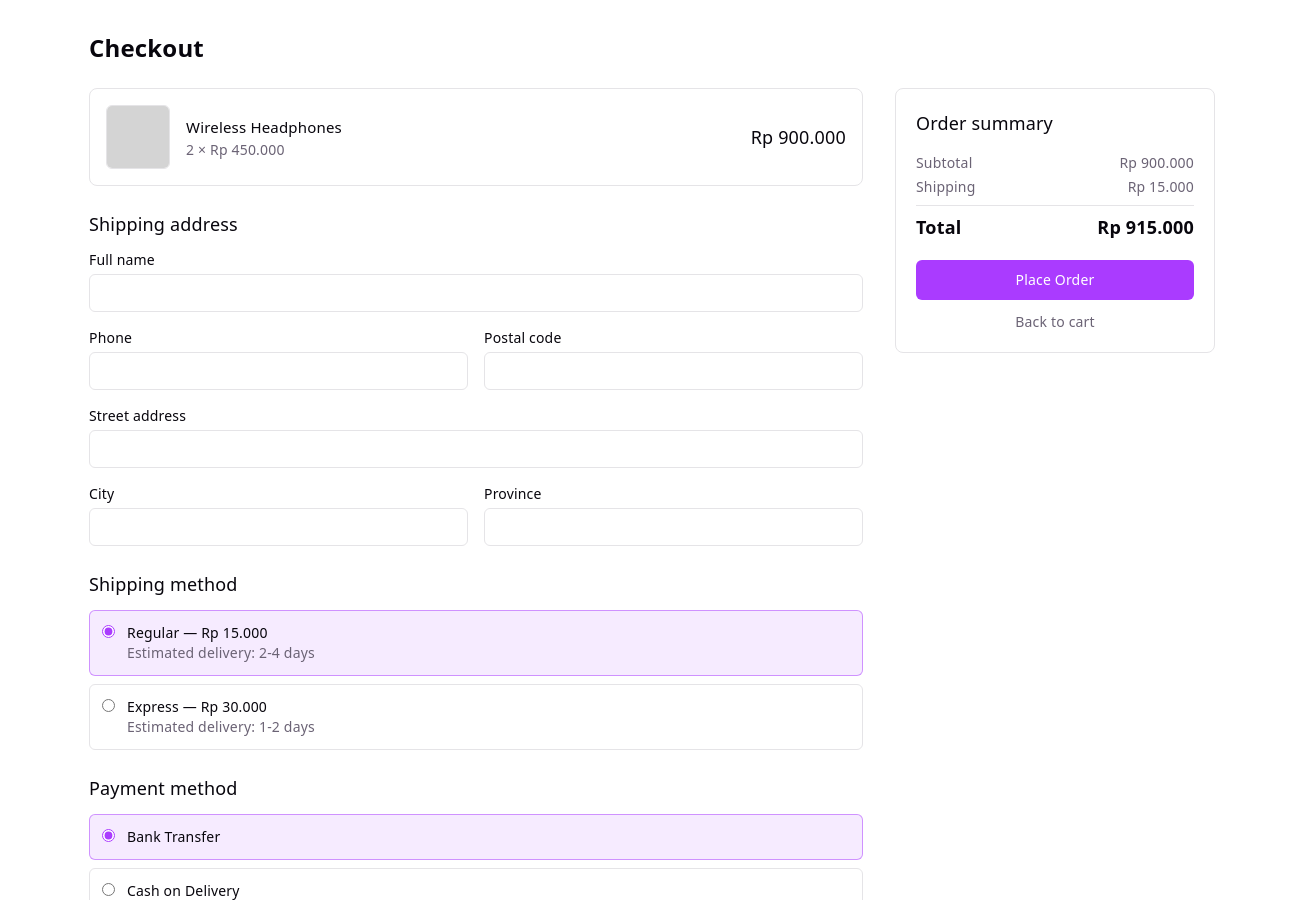
Scenario: CheckoutPage › submits the address, selected shipping id, and payment method, then navigates to the new order
Expected: the text "Wireless Headphones" is shown, [186,117,342,137]
In the field labelled "Full name": (476, 293) [89,274,863,312], type "Demo Buyer"
In the field labelled "Phone": (278, 371) [89,352,468,390], type "08123456789"
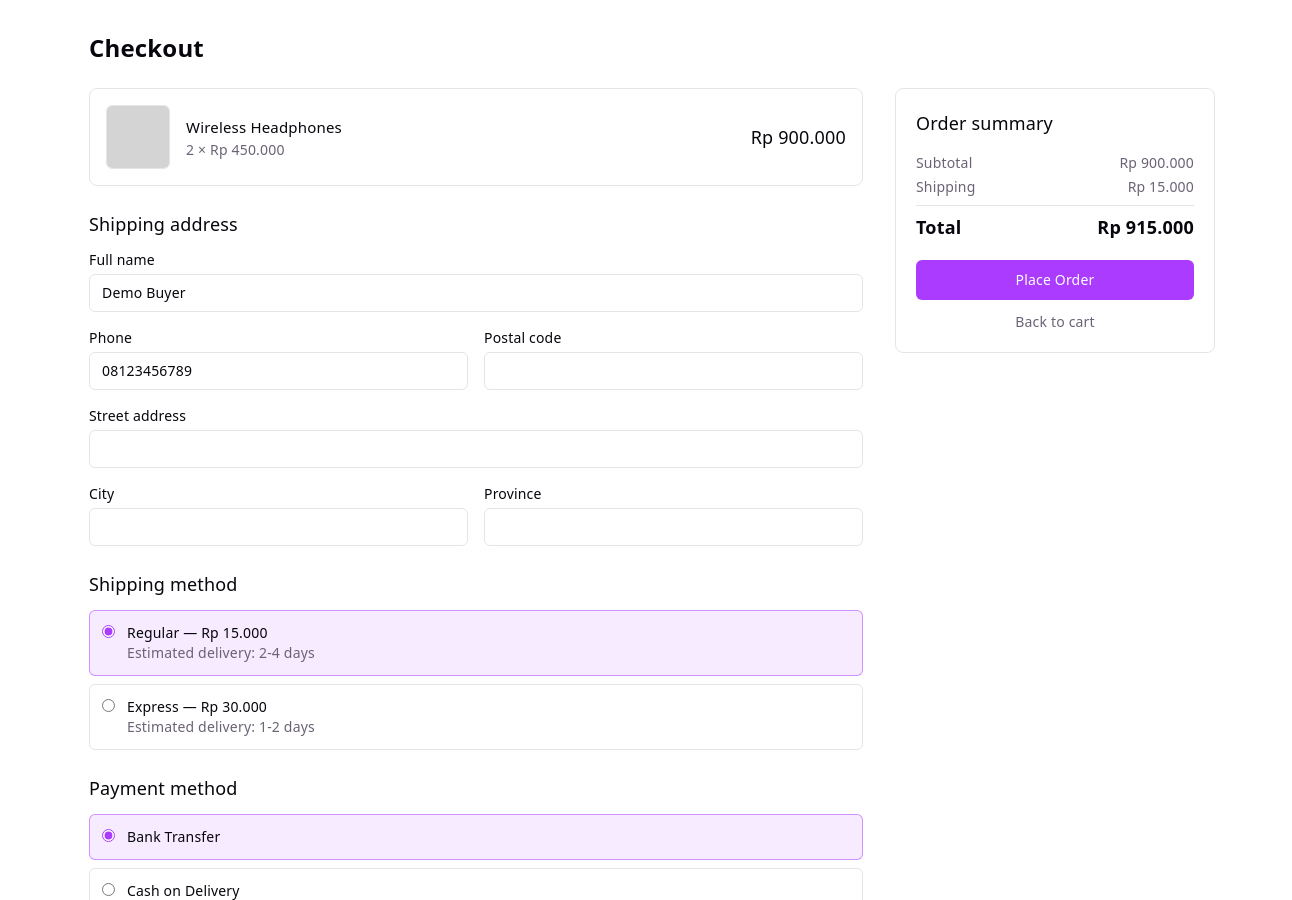
In the field labelled "Street address": (476, 449) [89,430,863,468], type "Jl. Sudirman No. 1"
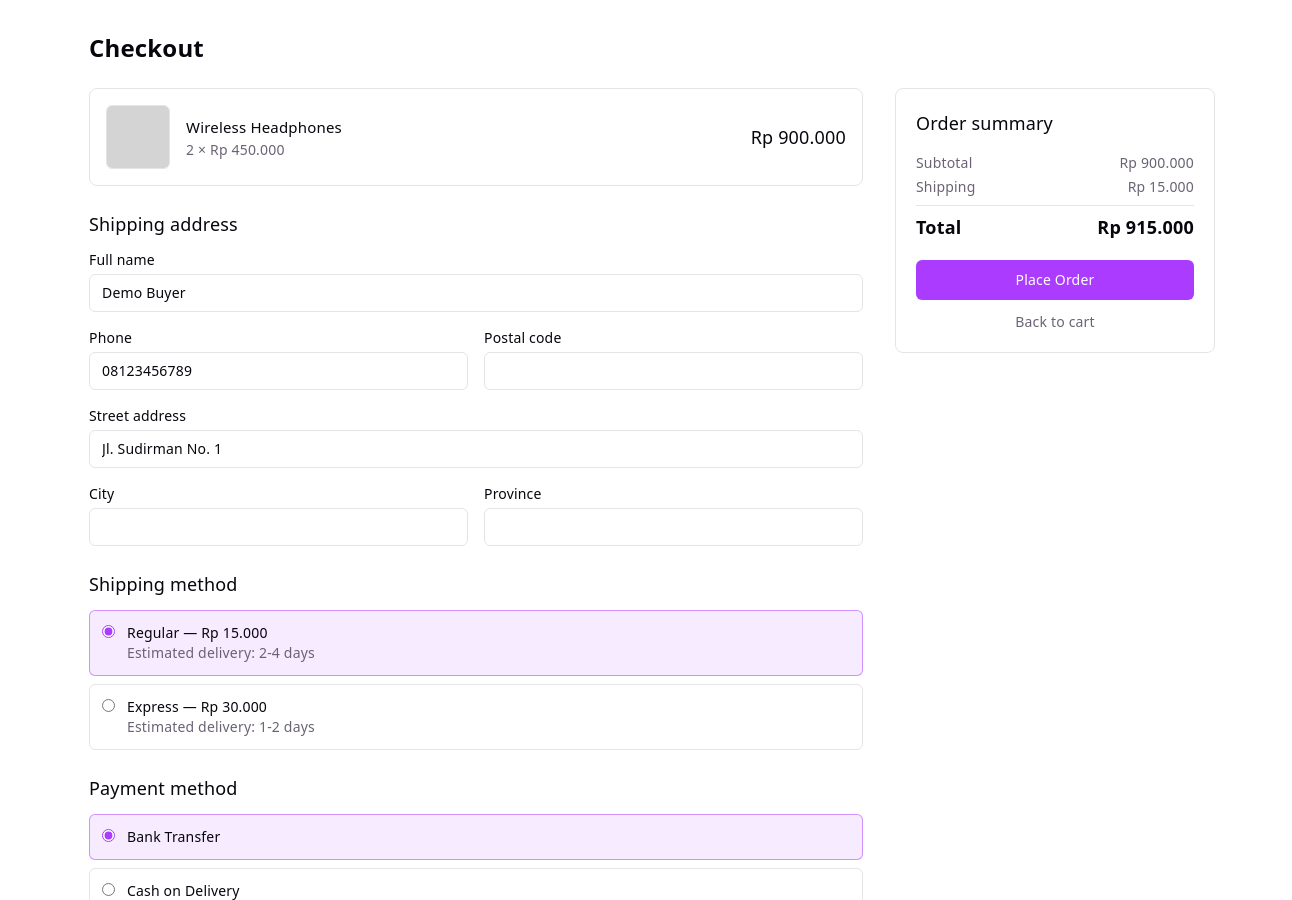
In the field labelled "City": (278, 527) [89,508,468,546], type "Jakarta"
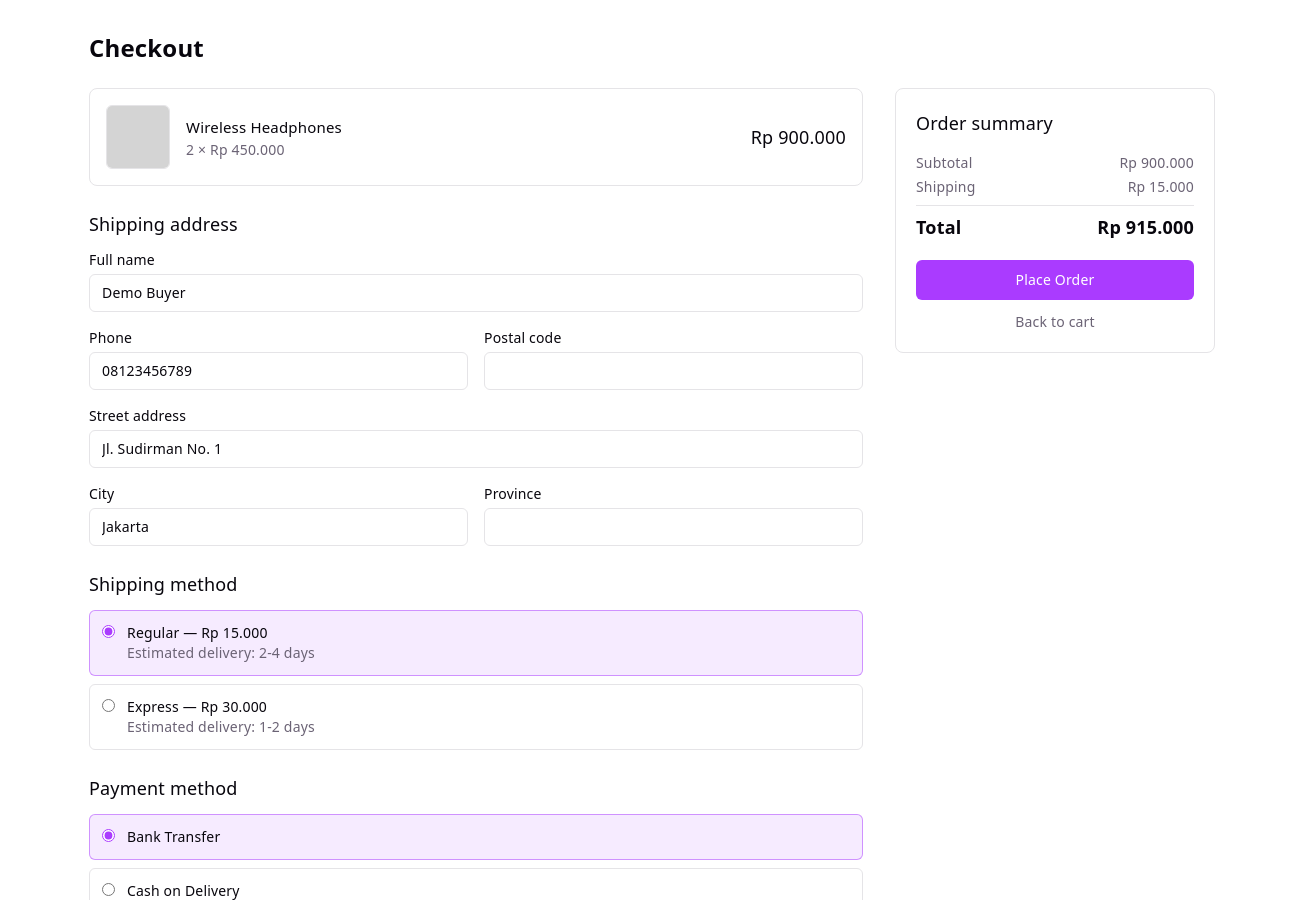
In the field labelled "Province": (674, 527) [484,508,863,546], type "DKI Jakarta"
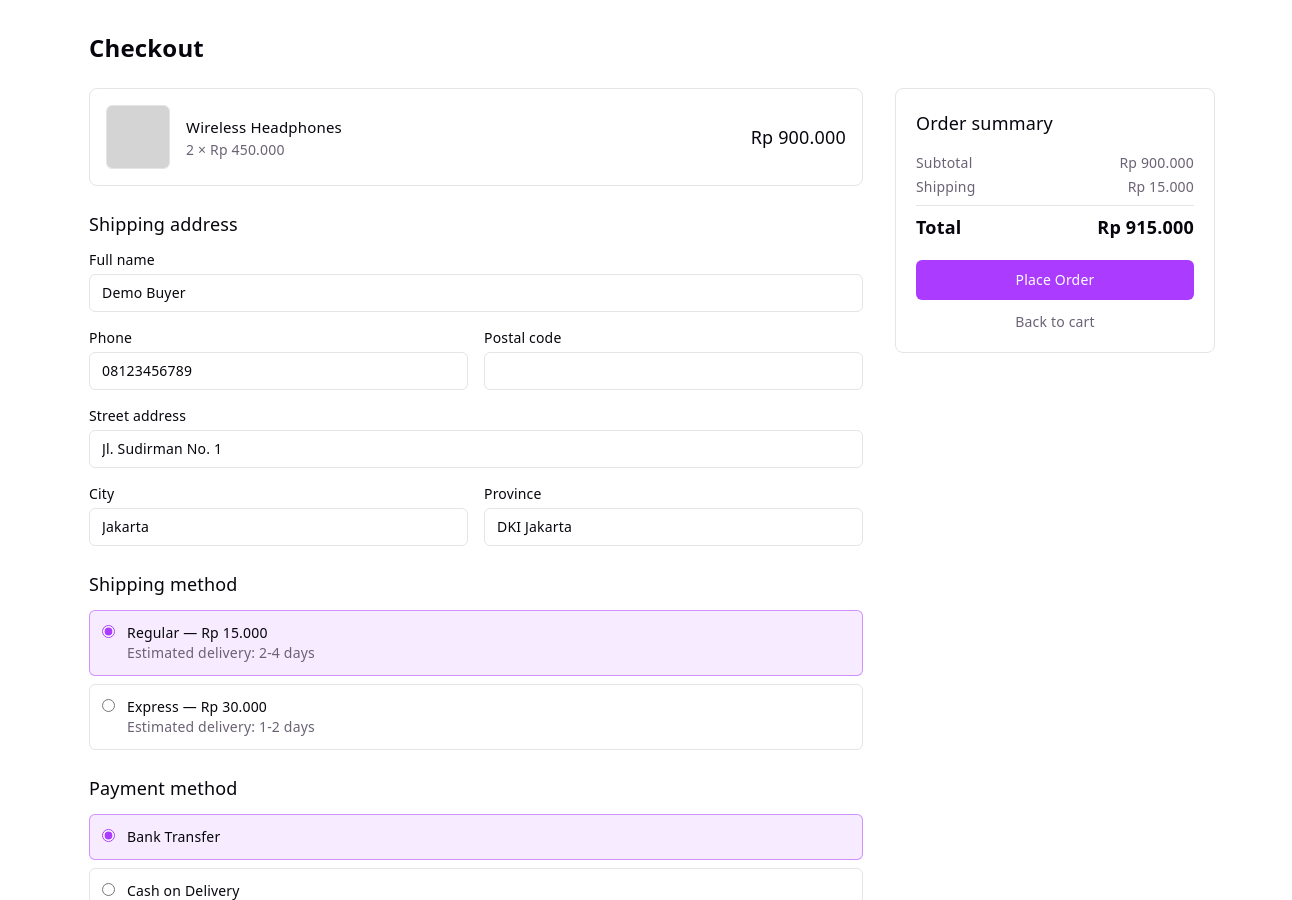
In the field labelled "Postal code": (674, 371) [484,352,863,390], type "12190"
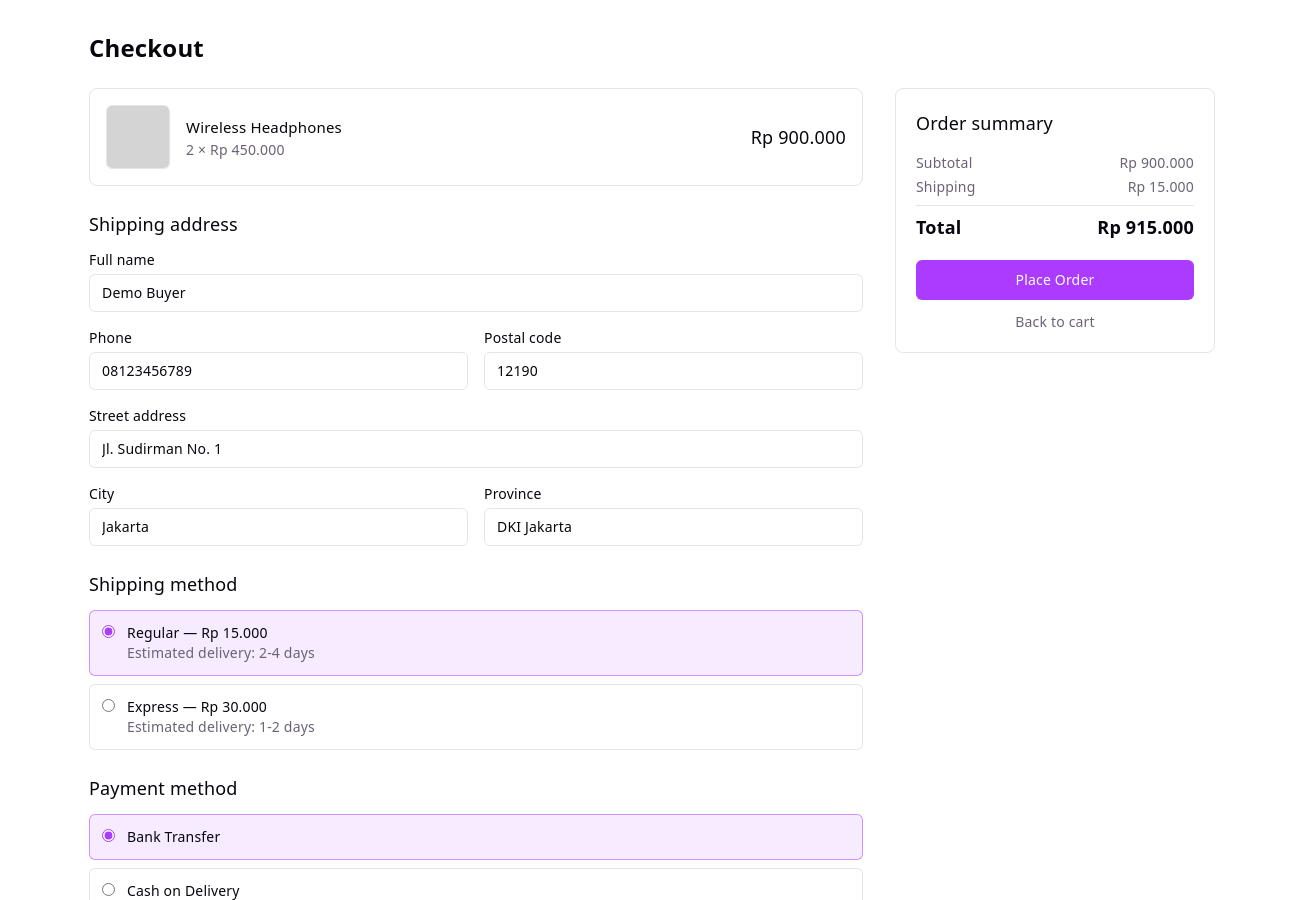
Click the button "Place Order": (1055, 280) [916,260,1194,300]
(page scrolled)
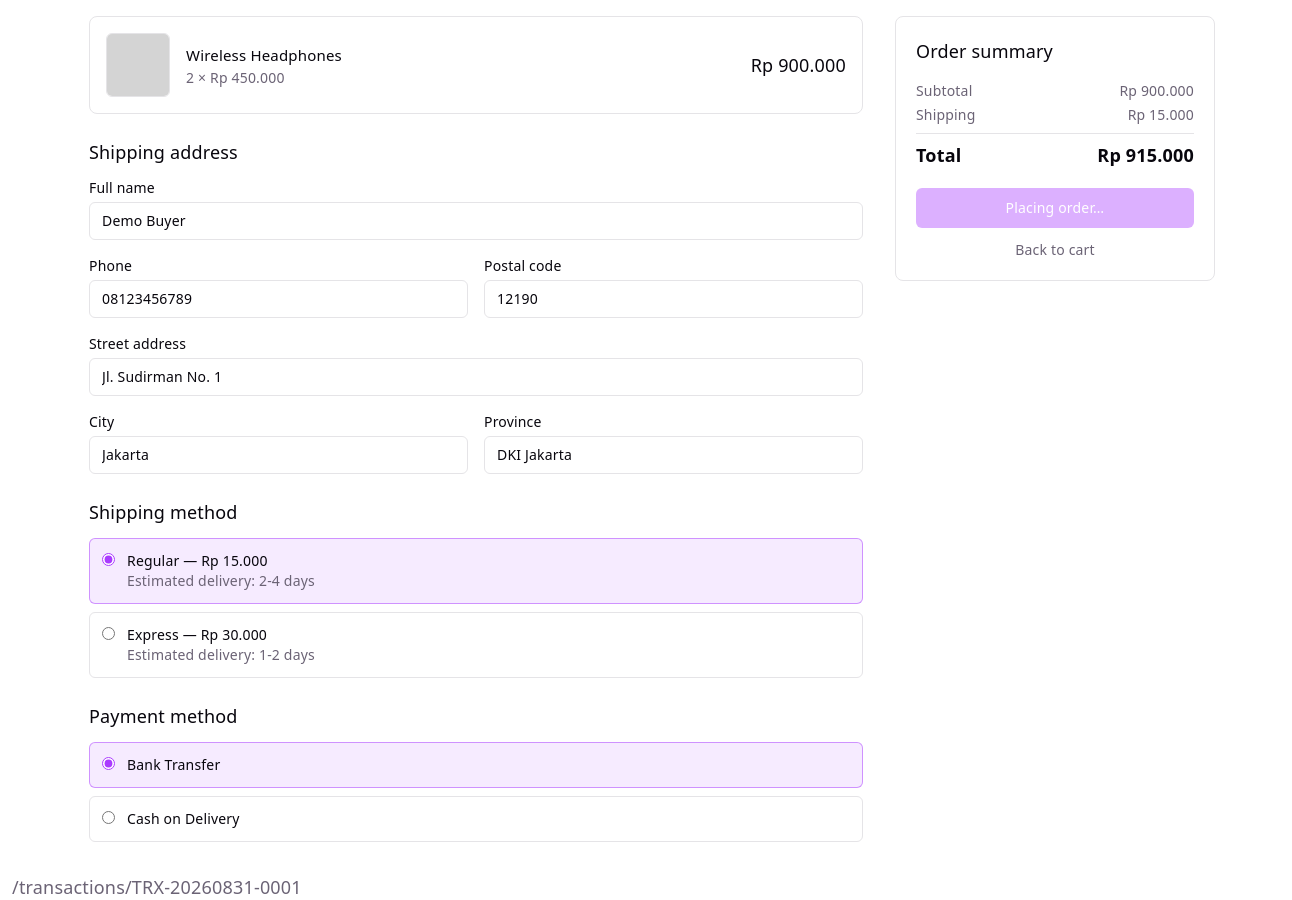
Result: the text with test id "location" reads "/transactions/TRX-20260831-0001" at [12,875,302,899]
